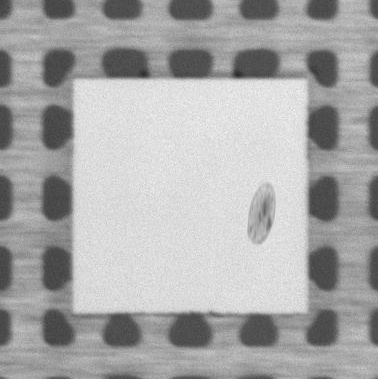DIE_INK: (246, 181, 277, 249)
